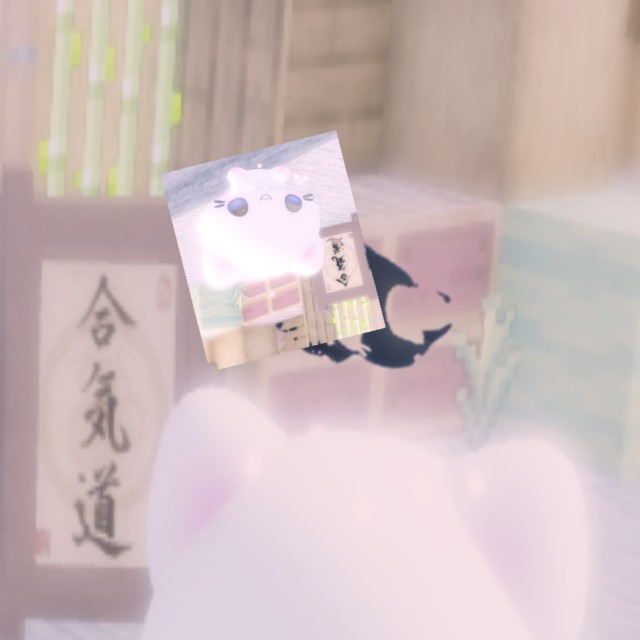urso_branco: (160, 130, 386, 372)
urso_preto: (220, 182, 499, 431)
